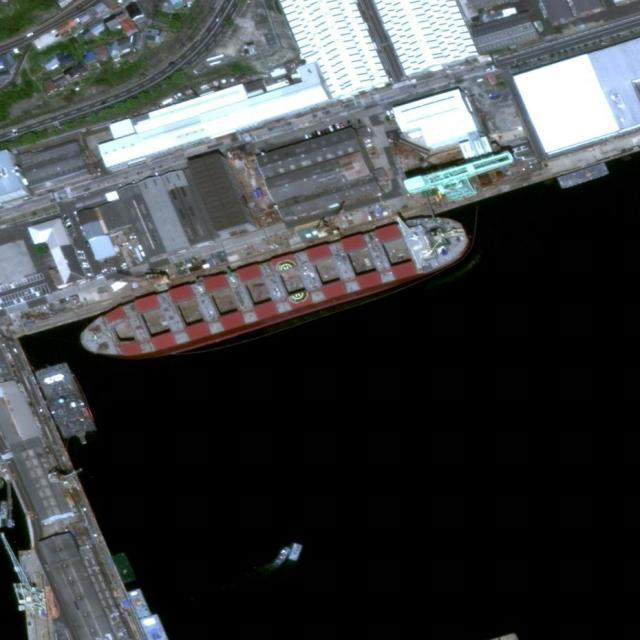Cargo: (71, 199, 477, 382)
